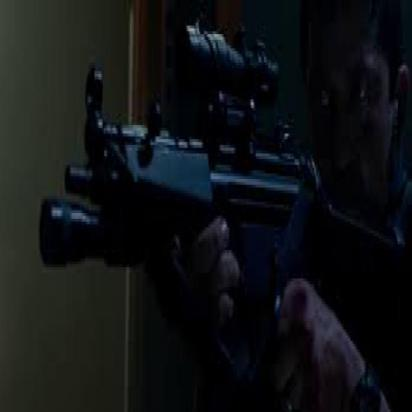Gun: (38, 4, 408, 402)
